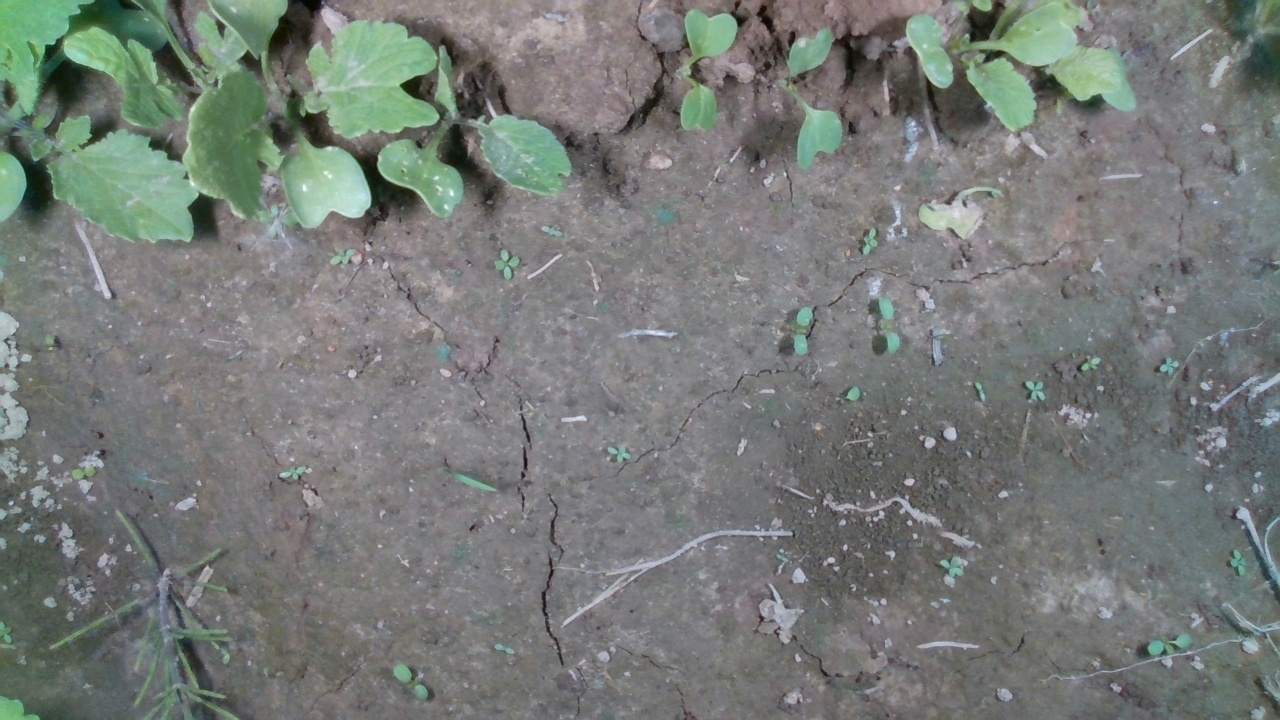weed: (784, 301, 820, 358), (874, 294, 903, 358)
